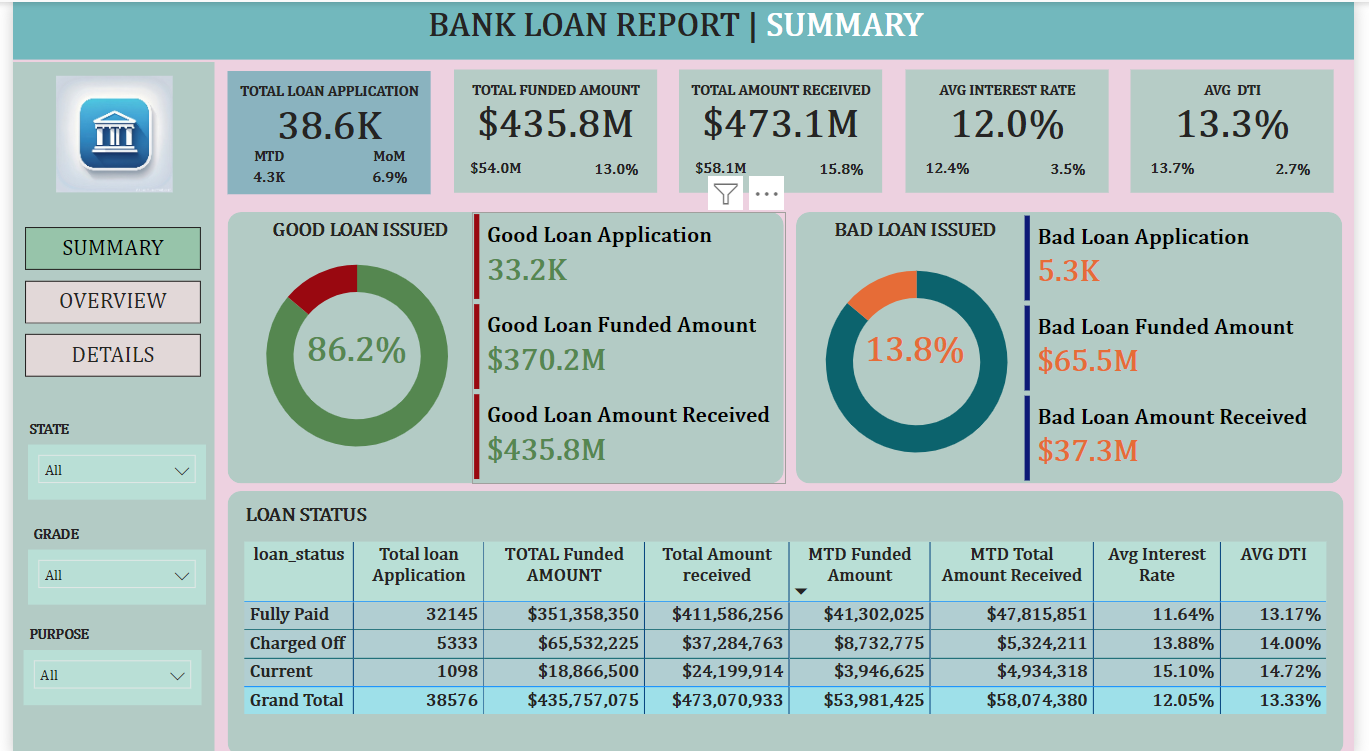

The page's visual inventory and layout, read from the dashboard file:
{"tool":"powerbi","page":{"name":"SUMMARY","canvas":[1280,720],"ordinal":0},"visuals":[{"type":"shape","box":[205.2,200.4,531.3,259.3],"z":0},{"type":"shape","box":[0,0,1280.6,55],"z":1000},{"type":"shape","box":[0,56.7,192.4,664.3],"z":2000},{"type":"textbox","box":[391.3,0,496.3,47.7],"z":3000},{"type":"shape","box":[420.4,64.8,194.1,117.7],"z":3000,"group":"g2"},{"type":"shape","box":[636.1,64.8,194.1,117.7],"z":3000,"group":"g3"},{"type":"shape","box":[851.7,64.8,194.1,117.7],"z":3000,"group":"g4"},{"type":"shape","box":[1067.3,64.8,194.1,117.7],"z":3000,"group":"g5"},{"type":"shape","box":[205.2,65.2,194.1,117.7],"z":3000,"group":"g1"},{"type":"group","id":"g1","title":"Group 1","box":[205.2,65.2,194.1,119.5],"z":4000},{"type":"card","fields":{"Values":["Bank_loan_data.TOTAL LOAN AMOUNT"]},"box":[420.4,87.1,194.1,52.5],"z":4000,"group":"g2"},{"type":"card","fields":{"Values":["Bank_loan_data.Total Amount received"]},"box":[636.1,87.1,194.1,52.5],"z":4000,"group":"g3"},{"type":"card","fields":{"Values":["Bank_loan_data.Avg Interest Rate"]},"box":[851.7,87.1,194.1,52.5],"z":4000,"group":"g4"},{"type":"card","fields":{"Values":["Bank_loan_data.AVG DTI"]},"box":[1067.3,87.1,194.1,52.5],"z":4000,"group":"g5"},{"type":"card","fields":{"Values":["Bank_loan_data.Total loan Application"]},"box":[205.2,87.5,194.1,52.5],"z":4000,"group":"g1"},{"type":"group","id":"g2","title":"Group 1","box":[420.4,64.8,194.4,119.5],"z":5000},{"type":"textbox","box":[420.4,69.6,194.1,36.6],"z":5000,"group":"g2"},{"type":"textbox","box":[636.1,69.6,194.1,36.6],"z":5000,"group":"g3"},{"type":"textbox","box":[851.7,69.6,194.1,36.6],"z":5000,"group":"g4"},{"type":"textbox","box":[1067.3,69.6,194.1,36.6],"z":5000,"group":"g5"},{"type":"textbox","box":[205.2,70,194.1,36.6],"z":5000,"group":"g1"},{"type":"card","title":"MTD","fields":{"Values":["Bank_loan_data.MTD Funded Amount"]},"box":[420.4,139.6,77.9,42.9],"z":6000,"group":"g2"},{"type":"card","title":"MTD","fields":{"Values":["Bank_loan_data.MTD Total Amount Received"]},"box":[636.1,139.6,77.9,42.9],"z":6000,"group":"g3"},{"type":"card","title":"MTD","fields":{"Values":["Bank_loan_data.MTD Avg Interest Rate"]},"box":[851.7,139.6,77.9,42.9],"z":6000,"group":"g4"},{"type":"card","title":"MTD","fields":{"Values":["Bank_loan_data.MTD Avg DTI"]},"box":[1067.3,139.6,77.9,42.9],"z":6000,"group":"g5"},{"type":"card","title":"MTD","fields":{"Values":["Bank_loan_data.MTD Loan Application"]},"box":[205.2,140,77.9,42.9],"z":6000,"group":"g1"},{"type":"textbox","box":[234.9,202.5,192.4,36.5],"z":6000},{"type":"card","title":"MoM","fields":{"Values":["Bank_loan_data.MoM Total Funded Amount"]},"box":[535.1,139.8,79,44.6],"z":7000,"group":"g2"},{"type":"card","title":"MoM","fields":{"Values":["Bank_loan_data.MoM Total Amount Received"]},"box":[750.8,139.8,79,44.6],"z":7000,"group":"g3"},{"type":"card","title":"MoM","fields":{"Values":["Bank_loan_data.MoM Avg Interest rate"]},"box":[966.4,139.8,79,44.6],"z":7000,"group":"g4"},{"type":"card","title":"MoM","fields":{"Values":["Bank_loan_data.MoM Avg DTI"]},"box":[1182,139.8,79,44.6],"z":7000,"group":"g5"},{"type":"card","title":"MoM","fields":{"Values":["Bank_loan_data.MoM LOAN APPLICATION"]},"box":[319.9,140.2,79,44.6],"z":7000,"group":"g1"},{"type":"card","fields":{"Values":["Bank_loan_data.Good Loan %"]},"box":[230.9,303.8,194.4,52.7],"z":7000},{"type":"group","id":"g3","title":"Group 1","box":[636.1,64.8,194.4,119.5],"z":8000},{"type":"group","id":"g4","title":"Group 1","box":[851.7,64.8,194.4,119.5],"z":9000},{"type":"group","id":"g5","title":"Group 1","box":[1067.3,64.8,194.4,119.5],"z":10000},{"type":"donutChart","fields":{"Category":["Bank_loan_data.Good VS Bad Loan"],"Y":["Bank_loan_data.Total loan Application"]},"box":[214.7,214.7,226.8,245.1],"z":11000},{"type":"shape","box":[747.6,200.4,521.7,259.3],"z":12000},{"type":"cardVisual","fields":{"Data":["Bank_loan_data.Good Loan Application","Bank_loan_data.Good Loan Funded Amount","Bank_loan_data.Good Amount Received"]},"box":[439,200.4,299,259.3],"z":13000},{"type":"card","fields":{"Values":["Bank_loan_data.Bad loan %"]},"box":[763.5,303.8,194.4,52.7],"z":14000},{"type":"shape","box":[205.2,467.6,1065.7,252.9],"z":15000},{"type":"donutChart","fields":{"Category":["Bank_loan_data.Good VS Bad Loan"],"Y":["Bank_loan_data.Total loan Application"]},"box":[749.4,220.8,226.8,245.1],"z":16000},{"type":"textbox","box":[765.6,202.5,192.4,36.5],"z":17000},{"type":"cardVisual","fields":{"Data":["Bank_loan_data.Bad Loan Application","Bank_loan_data.Bad Loan Funded Amount","Bank_loan_data.Bad Loan Amount Received"]},"box":[964.1,202.5,297.7,259.2],"z":18000},{"type":"tableEx","fields":{"Values":["Bank_loan_data.loan_status","Bank_loan_data.Total loan Application","Bank_loan_data.TOTAL Funded AMOUNT","Bank_loan_data.Total Amount received","Bank_loan_data.MTD Funded Amount","Bank_loan_data.MTD Total Amount Received","Bank_loan_data.Avg Interest Rate","Bank_loan_data.AVG DTI"]},"box":[214.7,510.6,1057.8,197.2],"z":19000},{"type":"textbox","box":[216.3,474.1,143.2,35.8],"z":20000},{"type":"image","box":[36.5,64.8,121.5,123.5],"z":21000},{"type":"slicer","fields":{"Values":["Bank_loan_data.address_state"]},"box":[14.2,423.3,170.1,52.7],"z":21000,"group":"g8"},{"type":"textbox","box":[10.1,392.9,137.7,30.4],"z":22000,"group":"g8"},{"type":"group","id":"g6","title":"Group 2","box":[10.1,589.4,170.1,83],"z":22000},{"type":"group","id":"g7","title":"Group 3","box":[14.2,492.2,170.1,83],"z":23000},{"type":"slicer","fields":{"Values":["Bank_loan_data.grade"]},"box":[14.2,522.4,170.2,52.5],"z":23000,"group":"g7"},{"type":"group","id":"g8","title":"Group 4","box":[10.1,392.9,174.2,83],"z":24000},{"type":"textbox","box":[14.2,492.2,138.4,30.2],"z":24000,"group":"g7"},{"type":"pageNavigator","box":[12.2,214.7,168.1,145.8],"z":25000},{"type":"slicer","fields":{"Values":["Bank_loan_data.purpose"]},"box":[10.1,619.6,170.2,52.5],"z":25000,"group":"g6"},{"type":"textbox","box":[10.1,589.4,138.4,30.2],"z":26000,"group":"g6"}]}

Visuals, with their boxes in screenshot pixels (x1, y1, x2, y2), scaled from the page's 1280x720 canvas onto the 1369x751 screenshot:
shape: (left=219, top=209, right=788, bottom=479)
shape: (left=0, top=0, right=1368, bottom=57)
shape: (left=0, top=59, right=206, bottom=750)
textbox: (left=419, top=0, right=949, bottom=50)
shape: (left=450, top=68, right=657, bottom=190)
shape: (left=680, top=68, right=888, bottom=190)
shape: (left=911, top=68, right=1119, bottom=190)
shape: (left=1142, top=68, right=1349, bottom=190)
shape: (left=219, top=68, right=427, bottom=191)
"Group 1" group: (left=219, top=68, right=427, bottom=193)
card - Bank_loan_data.TOTAL LOAN AMOUNT: (left=450, top=91, right=657, bottom=146)
card - Bank_loan_data.Total Amount received: (left=680, top=91, right=888, bottom=146)
card - Bank_loan_data.Avg Interest Rate: (left=911, top=91, right=1119, bottom=146)
card - Bank_loan_data.AVG DTI: (left=1142, top=91, right=1349, bottom=146)
card - Bank_loan_data.Total loan Application: (left=219, top=91, right=427, bottom=146)
"Group 1" group: (left=450, top=68, right=658, bottom=192)
textbox: (left=450, top=73, right=657, bottom=111)
textbox: (left=680, top=73, right=888, bottom=111)
textbox: (left=911, top=73, right=1119, bottom=111)
textbox: (left=1142, top=73, right=1349, bottom=111)
textbox: (left=219, top=73, right=427, bottom=111)
"MTD" card: (left=450, top=146, right=533, bottom=190)
"MTD" card: (left=680, top=146, right=764, bottom=190)
"MTD" card: (left=911, top=146, right=994, bottom=190)
"MTD" card: (left=1142, top=146, right=1225, bottom=190)
"MTD" card: (left=219, top=146, right=303, bottom=191)
textbox: (left=251, top=211, right=457, bottom=249)
"MoM" card: (left=572, top=146, right=657, bottom=192)
"MoM" card: (left=803, top=146, right=887, bottom=192)
"MoM" card: (left=1034, top=146, right=1118, bottom=192)
"MoM" card: (left=1264, top=146, right=1349, bottom=192)
"MoM" card: (left=342, top=146, right=427, bottom=193)
card - Bank_loan_data.Good Loan %: (left=247, top=317, right=455, bottom=372)
"Group 1" group: (left=680, top=68, right=888, bottom=192)
"Group 1" group: (left=911, top=68, right=1119, bottom=192)
"Group 1" group: (left=1142, top=68, right=1349, bottom=192)
donutChart - Bank_loan_data.Good VS Bad Loan x Bank_loan_data.Total loan Application: (left=230, top=224, right=472, bottom=480)
shape: (left=800, top=209, right=1358, bottom=479)
cardVisual - Bank_loan_data.Good Loan Application x Bank_loan_data.Good Loan Funded Amount: (left=470, top=209, right=789, bottom=479)
card - Bank_loan_data.Bad loan %: (left=817, top=317, right=1025, bottom=372)
shape: (left=219, top=488, right=1359, bottom=750)
donutChart - Bank_loan_data.Good VS Bad Loan x Bank_loan_data.Total loan Application: (left=802, top=230, right=1044, bottom=486)
textbox: (left=819, top=211, right=1025, bottom=249)
cardVisual - Bank_loan_data.Bad Loan Application x Bank_loan_data.Bad Loan Funded Amount: (left=1031, top=211, right=1350, bottom=482)
tableEx - Bank_loan_data.loan_status x Bank_loan_data.Total loan Application: (left=230, top=533, right=1361, bottom=738)
textbox: (left=231, top=495, right=384, bottom=532)
image: (left=39, top=68, right=169, bottom=196)
slicer - Bank_loan_data.address_state: (left=15, top=442, right=197, bottom=496)
textbox: (left=11, top=410, right=158, bottom=442)
"Group 2" group: (left=11, top=615, right=193, bottom=701)
"Group 3" group: (left=15, top=513, right=197, bottom=600)
slicer - Bank_loan_data.grade: (left=15, top=545, right=197, bottom=600)
"Group 4" group: (left=11, top=410, right=197, bottom=496)
textbox: (left=15, top=513, right=163, bottom=545)
pageNavigator: (left=13, top=224, right=193, bottom=376)
slicer - Bank_loan_data.purpose: (left=11, top=646, right=193, bottom=701)
textbox: (left=11, top=615, right=159, bottom=646)
